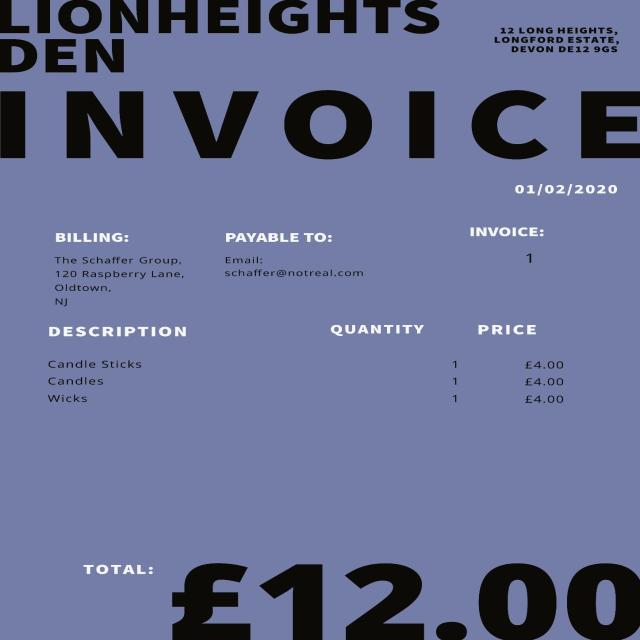paragraph: (49, 540, 640, 639), (2, 80, 640, 171), (0, 0, 458, 74), (33, 220, 198, 308), (216, 221, 384, 293), (493, 14, 634, 66), (462, 216, 569, 276), (501, 180, 634, 204)
table: (34, 316, 579, 426)
